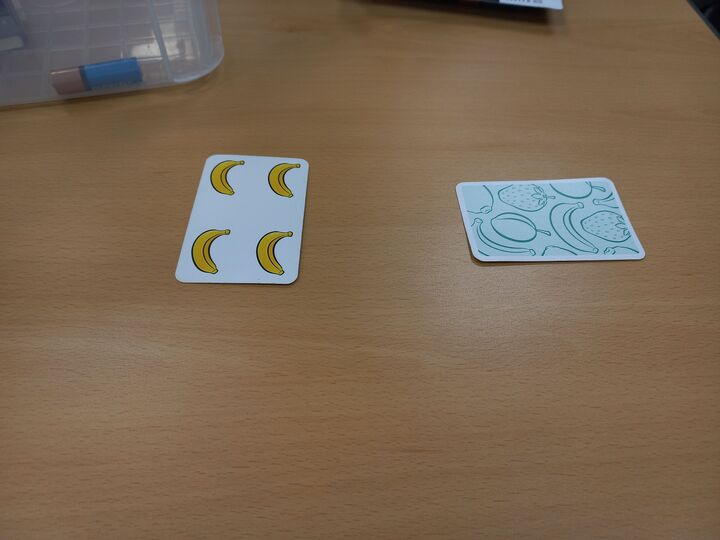banana4: (175, 152, 311, 285)
